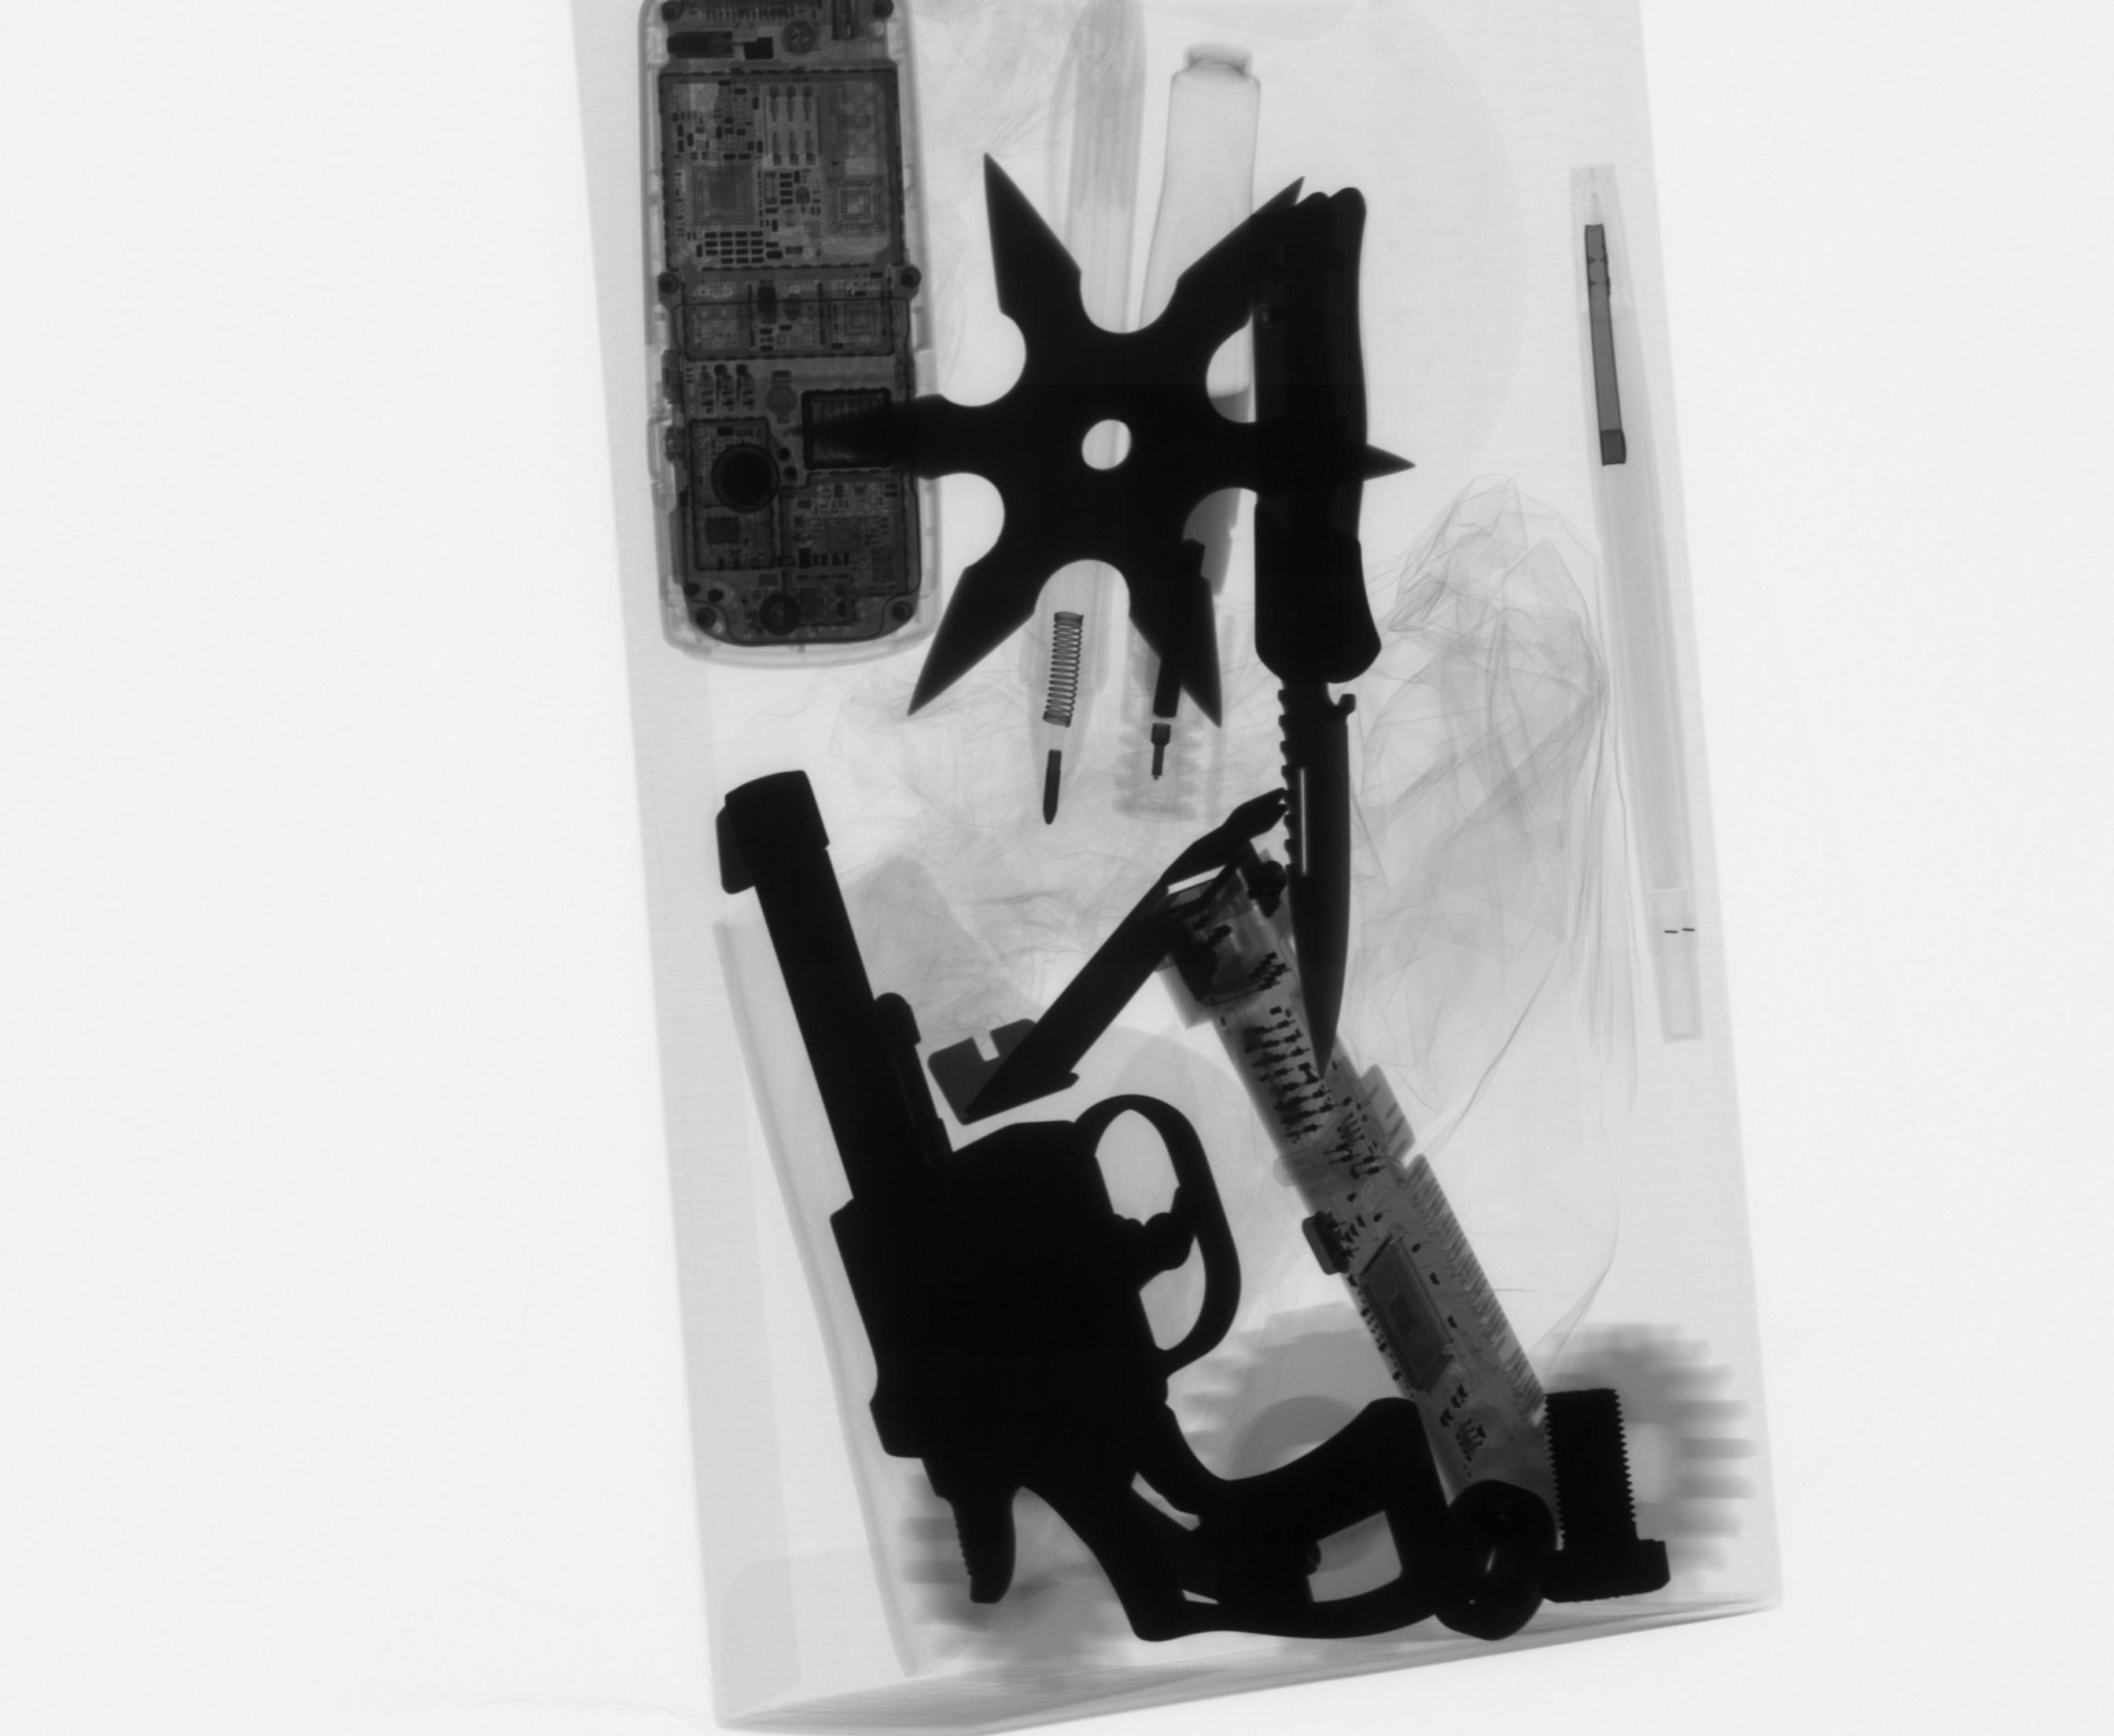Handgun: (704, 764, 1492, 1652)
Knife: (1238, 177, 1389, 1094)
Shuriken: (790, 144, 1426, 734)
